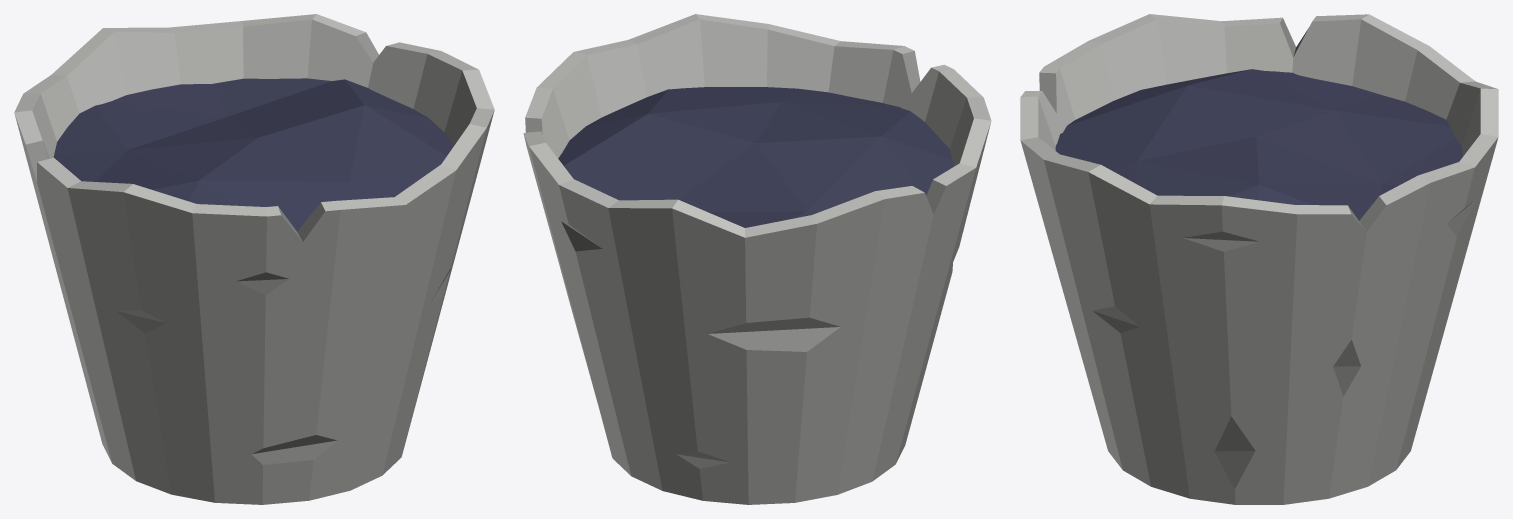
Rendered from Bucket_3_White.fbx.
3 views of the same model, side by side, from view 1: azimuth 30°, elevation 25°; view 2: azimuth 150°, elevation 25°; view 3: azimuth 270°, elevation 25° (orthographic). The views are drawn at different scales.
Visible parts, largest first — view 1: Bucket_3_White_Part_1, Bucket_3_White_Part_3, Bucket_3_White_Part_2; view 2: Bucket_3_White_Part_1, Bucket_3_White_Part_3, Bucket_3_White_Part_2; view 3: Bucket_3_White_Part_1, Bucket_3_White_Part_3, Bucket_3_White_Part_2.
Part boxes in pixels (box(x1,y1,x2,y2)): Bucket_3_White_Part_1: box(14, 14, 494, 504); Bucket_3_White_Part_3: box(53, 78, 453, 231); Bucket_3_White_Part_2: box(26, 32, 450, 464); Bucket_3_White_Part_1: box(523, 14, 991, 504); Bucket_3_White_Part_3: box(558, 87, 953, 227); Bucket_3_White_Part_2: box(525, 51, 952, 468); Bucket_3_White_Part_1: box(1020, 14, 1498, 504); Bucket_3_White_Part_3: box(1055, 69, 1463, 220); Bucket_3_White_Part_2: box(1039, 18, 1476, 489).
Bounding box in the file's own units: 79.02 × 62.58 × 79.02.
